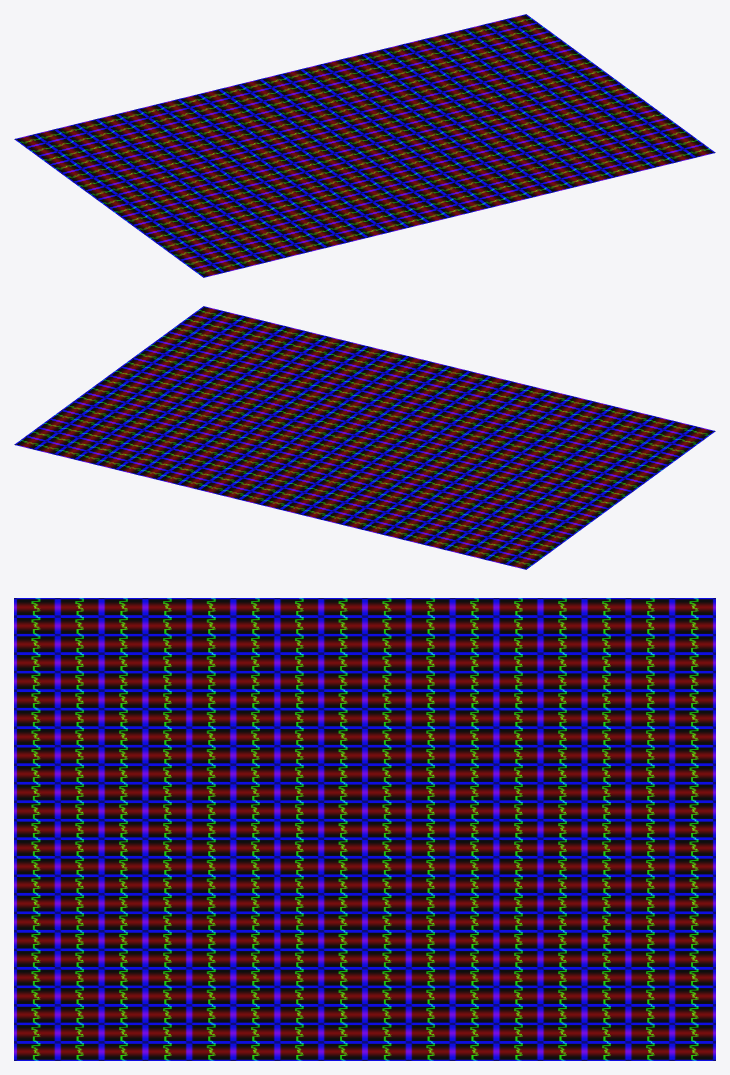
File: Background_01.fbx
3 views of the same model, one above another, from view 1: azimuth 30°, elevation 25°; view 2: azimuth 150°, elevation 25°; view 3: azimuth 270°, elevation 25° (orthographic). The views are drawn at different scales.
Parts seen in each view (by area): view 1: Background; view 2: Background; view 3: Background.
Boxes of the visible parts, x1=… form: Background: x1=14, y1=14, x2=715, y2=277; Background: x1=14, y1=306, x2=715, y2=569; Background: x1=14, y1=598, x2=715, y2=1060.
Bounding box in the file's own units: 100 × 0 × 64.16.
Materials: 1 (1 with a texture image).
